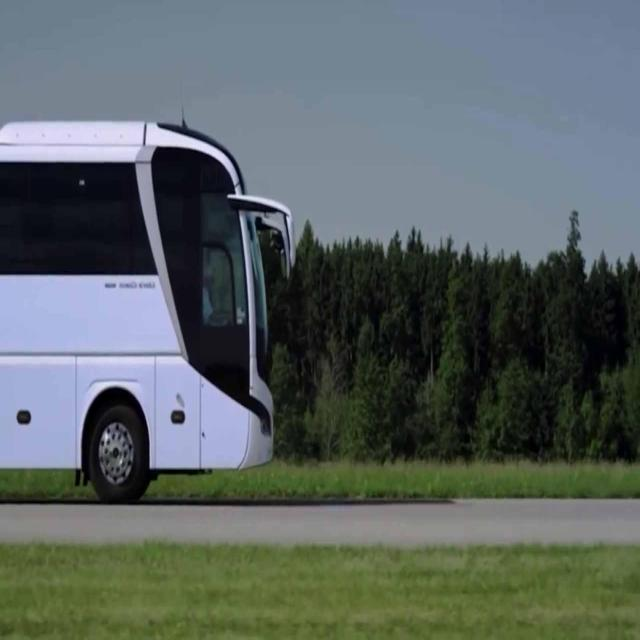bus: (1, 91, 301, 519)
